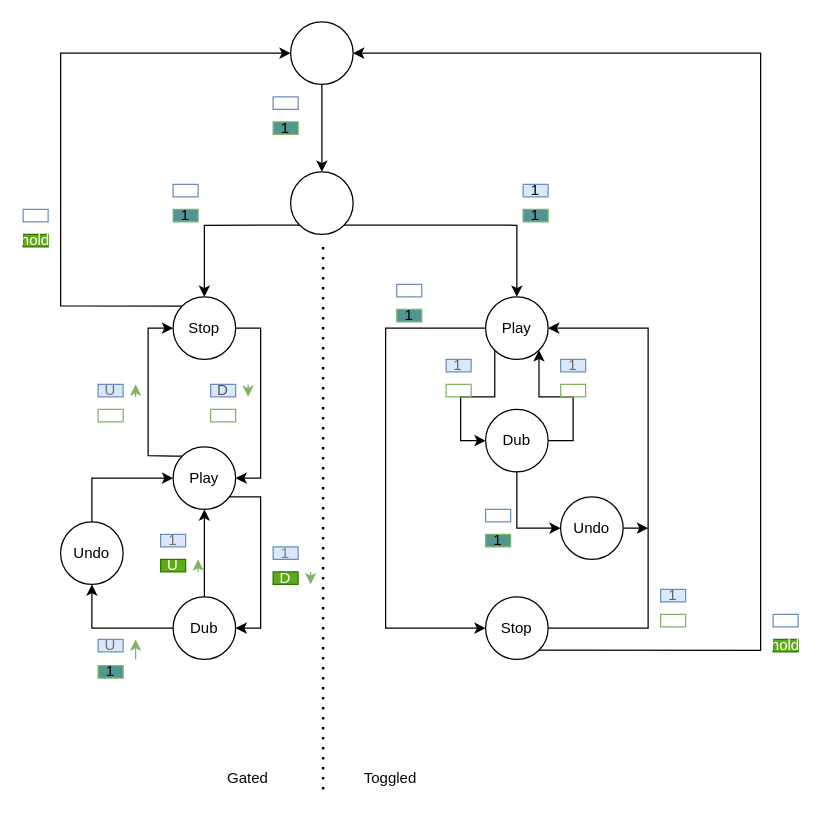
This 821x821 diagram has some shape labels left out. Each missing label, with the box of its shape:
Base: (289, 171, 353, 234)
Clear: (289, 21, 353, 84)
